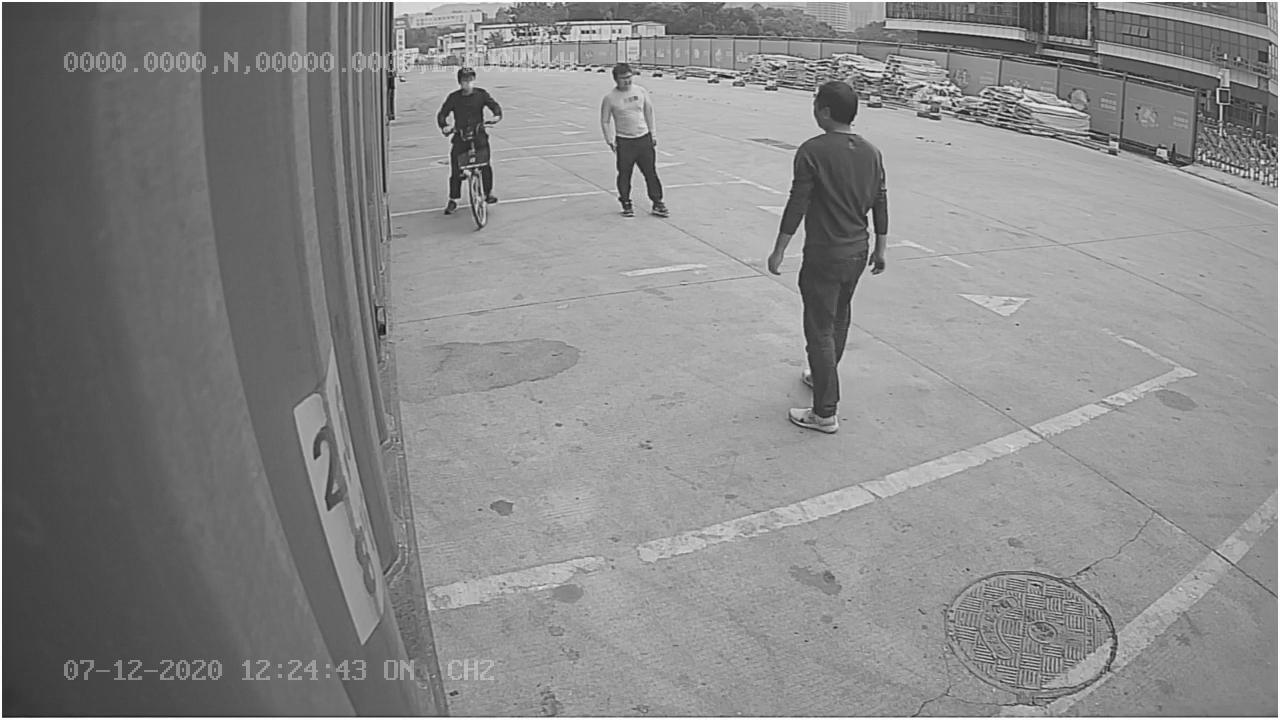person: (761, 78, 894, 432), (596, 60, 675, 217)
